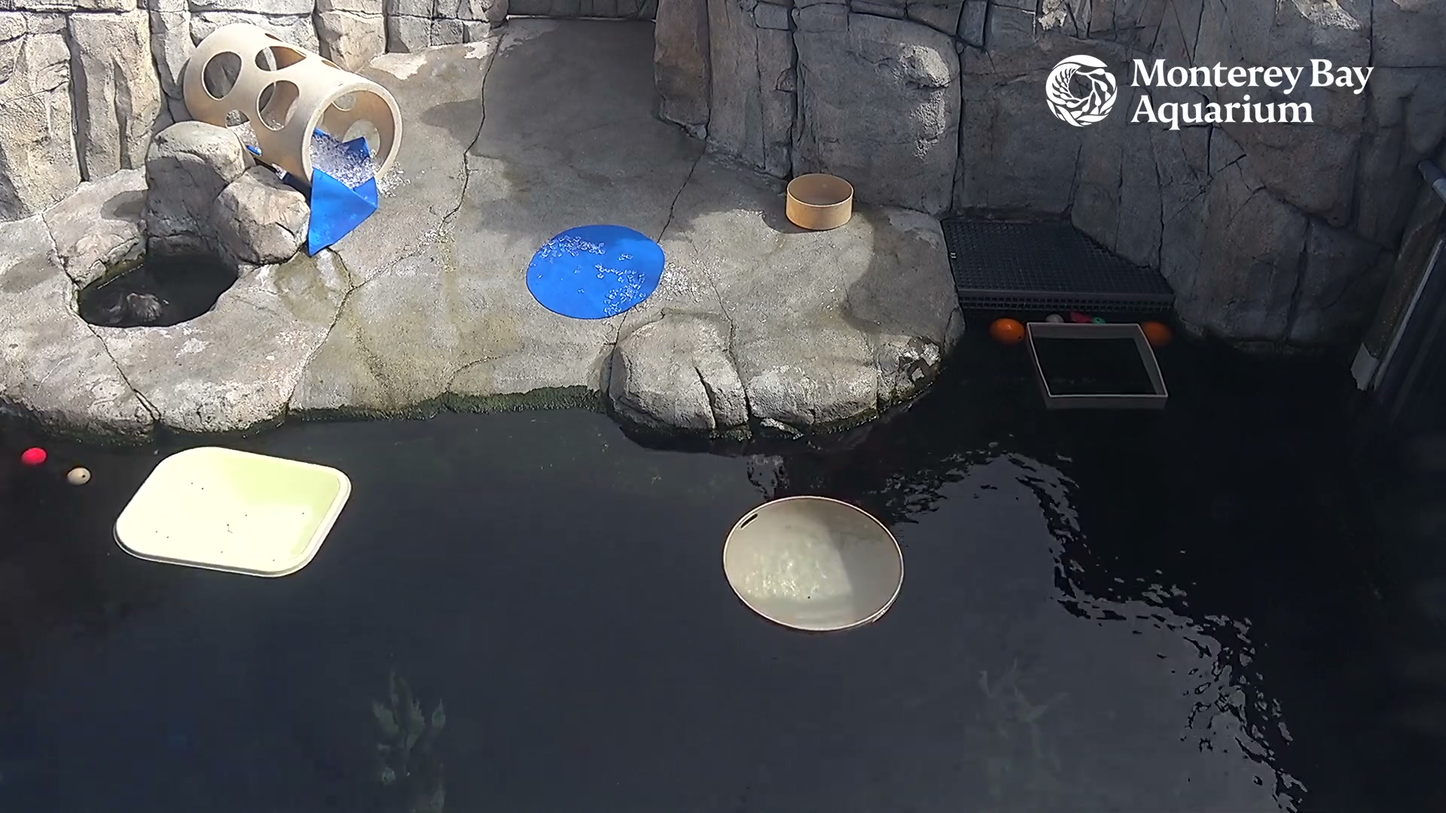Southern Sea Otter: (105, 282, 182, 331)
